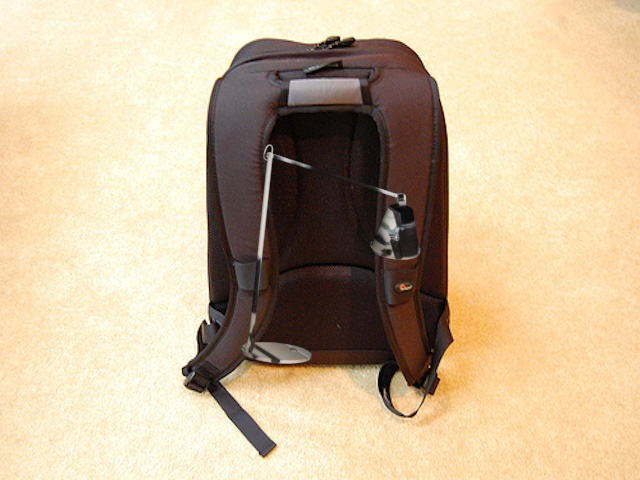desk_lamp: (240, 145, 432, 369)
